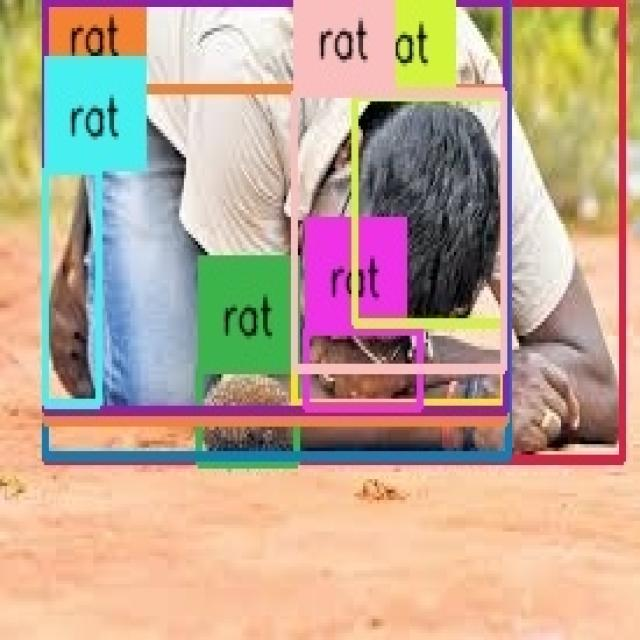rat: (45, 0, 622, 462), (46, 2, 508, 456), (46, 0, 508, 413), (46, 88, 507, 423), (296, 91, 505, 402), (296, 95, 505, 368), (356, 94, 505, 322), (46, 170, 98, 404), (199, 367, 297, 465), (306, 328, 420, 406)
